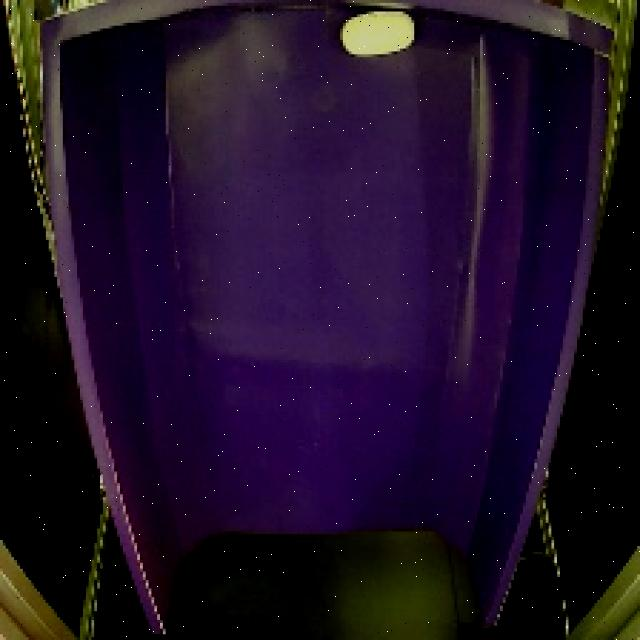small: (331, 3, 421, 66)
